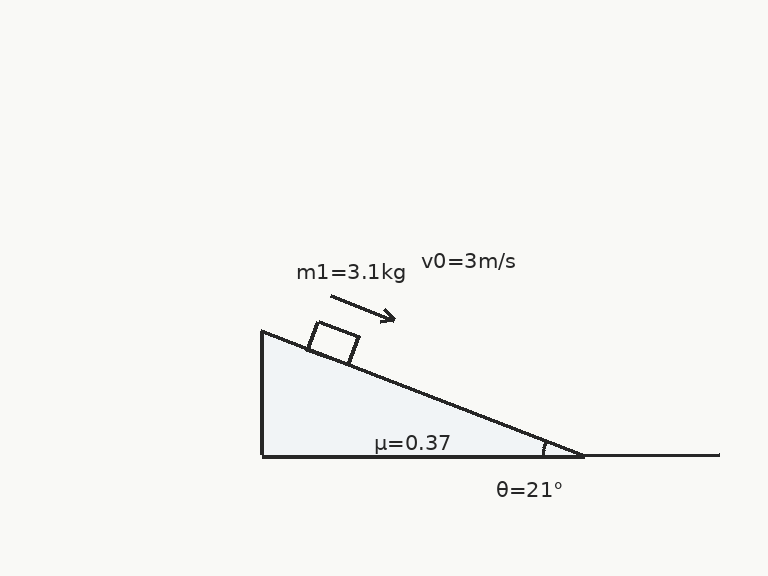block: (306, 319, 360, 366)
ramp: (260, 330, 585, 457)
